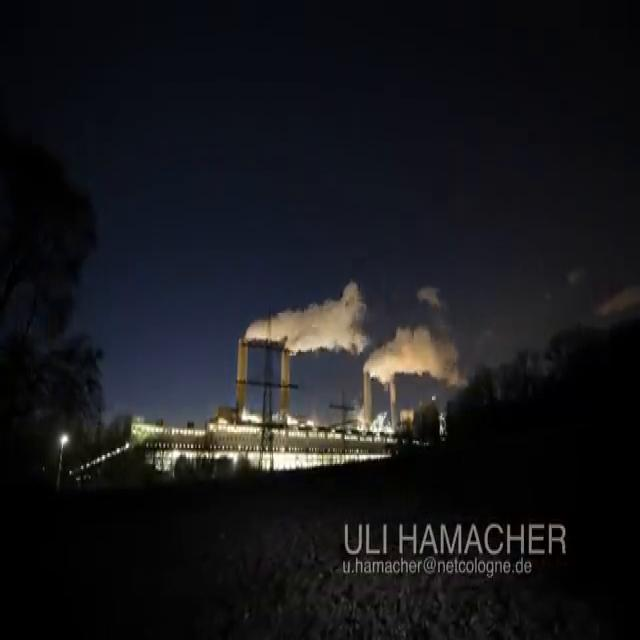smoke: (364, 288, 467, 423), (242, 286, 379, 357)
